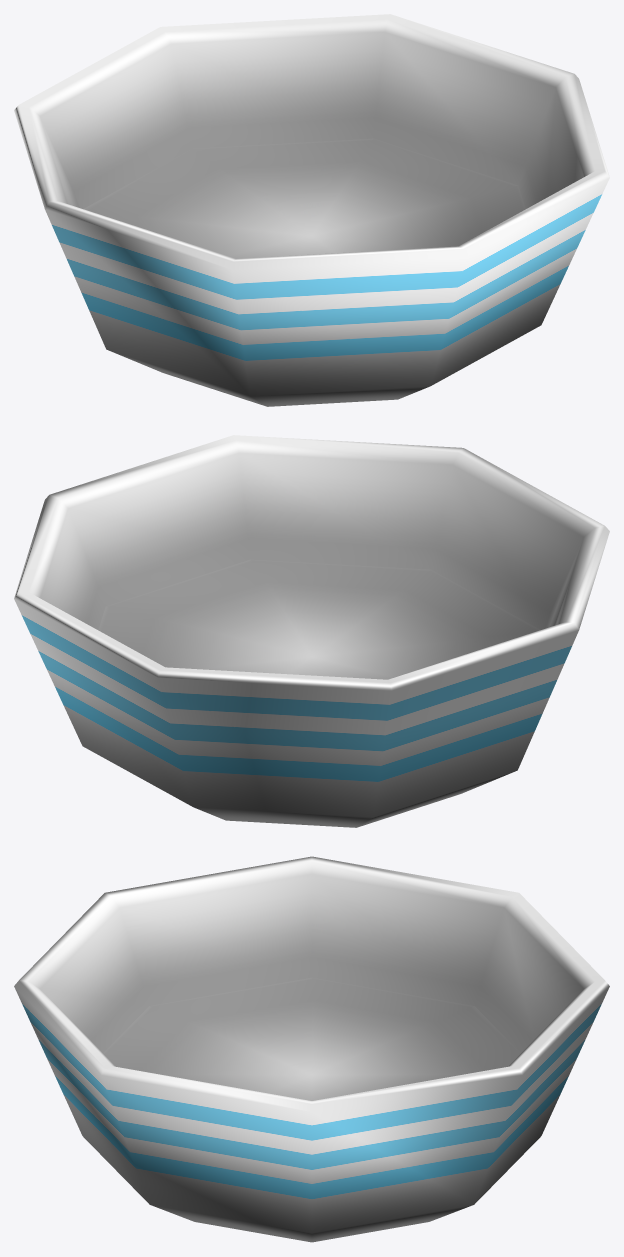
File: Sun_RM_Fruit_Bowl.fbx
The picture shows the model from 3 angles, top to bottom: view 1: azimuth 30°, elevation 25°; view 2: azimuth 150°, elevation 25°; view 3: azimuth 270°, elevation 25°; orthographic projection. The views are drawn at different scales.
Visible parts, largest first — view 1: Sun_RM_Fruit_Bowl; view 2: Sun_RM_Fruit_Bowl; view 3: Sun_RM_Fruit_Bowl.
Boxes of the visible parts, bbox=[...] form: Sun_RM_Fruit_Bowl: bbox=[14, 14, 609, 406]; Sun_RM_Fruit_Bowl: bbox=[14, 435, 609, 827]; Sun_RM_Fruit_Bowl: bbox=[14, 856, 609, 1242].
Size of the model in its own units: 3.12 by 1.11 by 3.12.
Materials: 1 (1 with a texture image).
